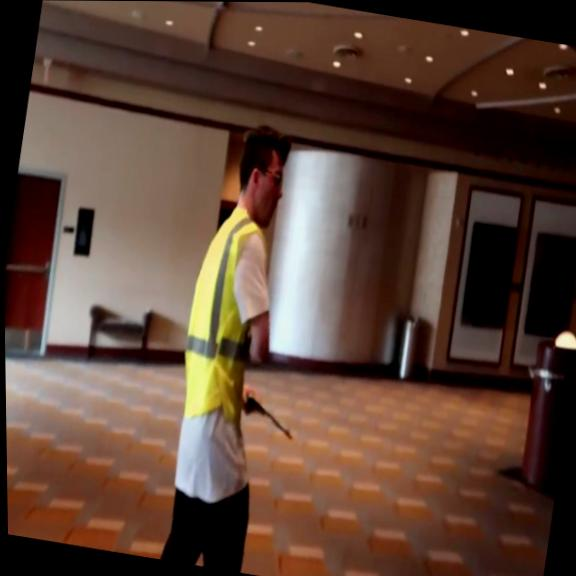safety_vest: (173, 202, 276, 425)
